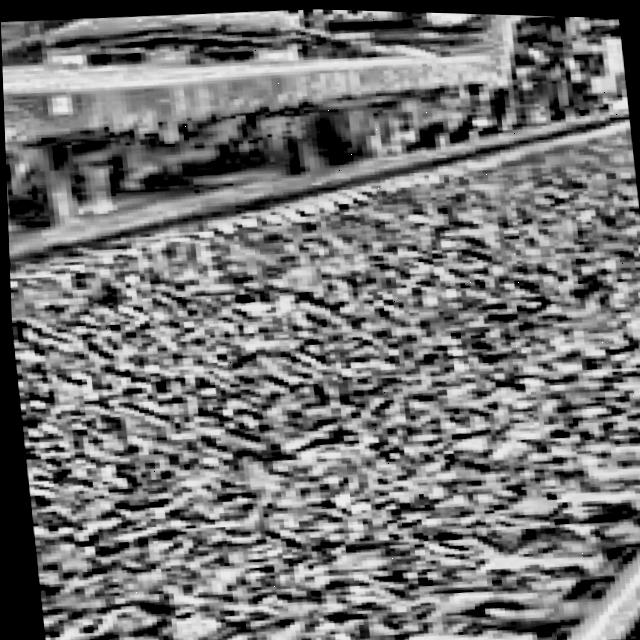Gerbong: (0, 0, 526, 248), (2, 78, 54, 387)
Lokomotif: (27, 1, 632, 187)
